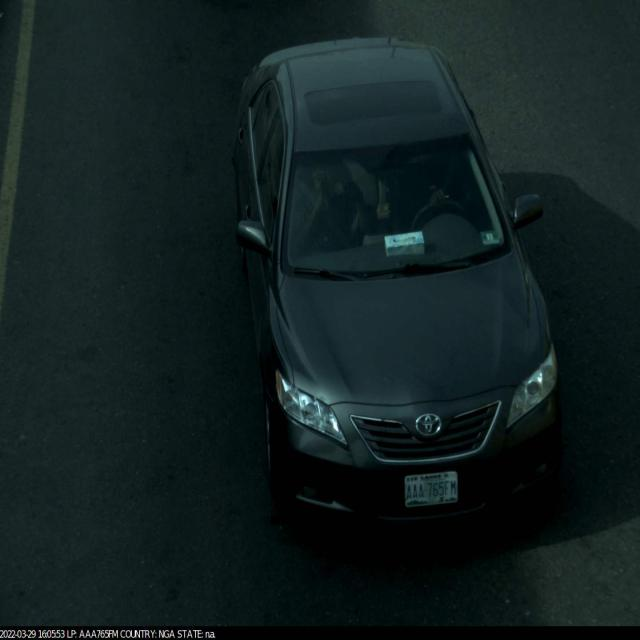windshield: (266, 133, 510, 278)
